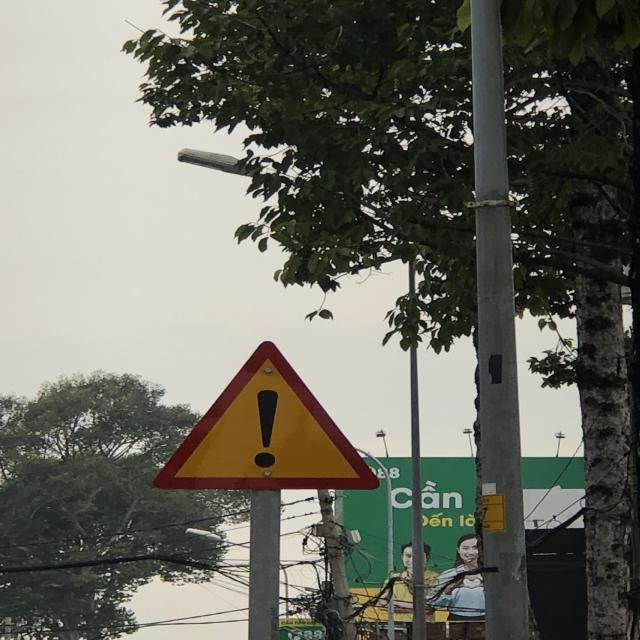Bien bao nguy hiem khac: (147, 338, 388, 494)
